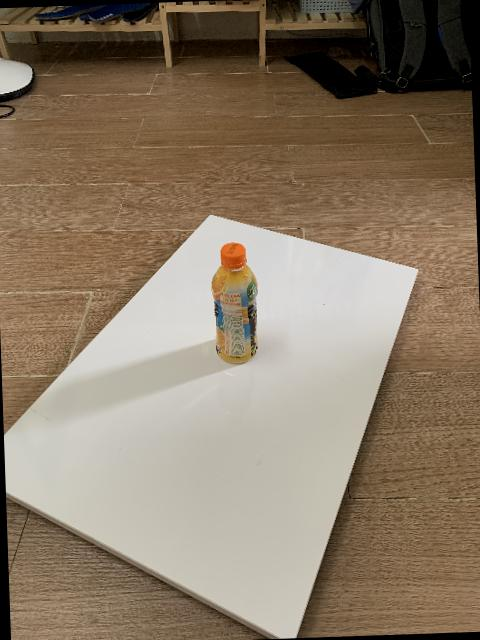teppy_orange_juice: (211, 243, 259, 367)
